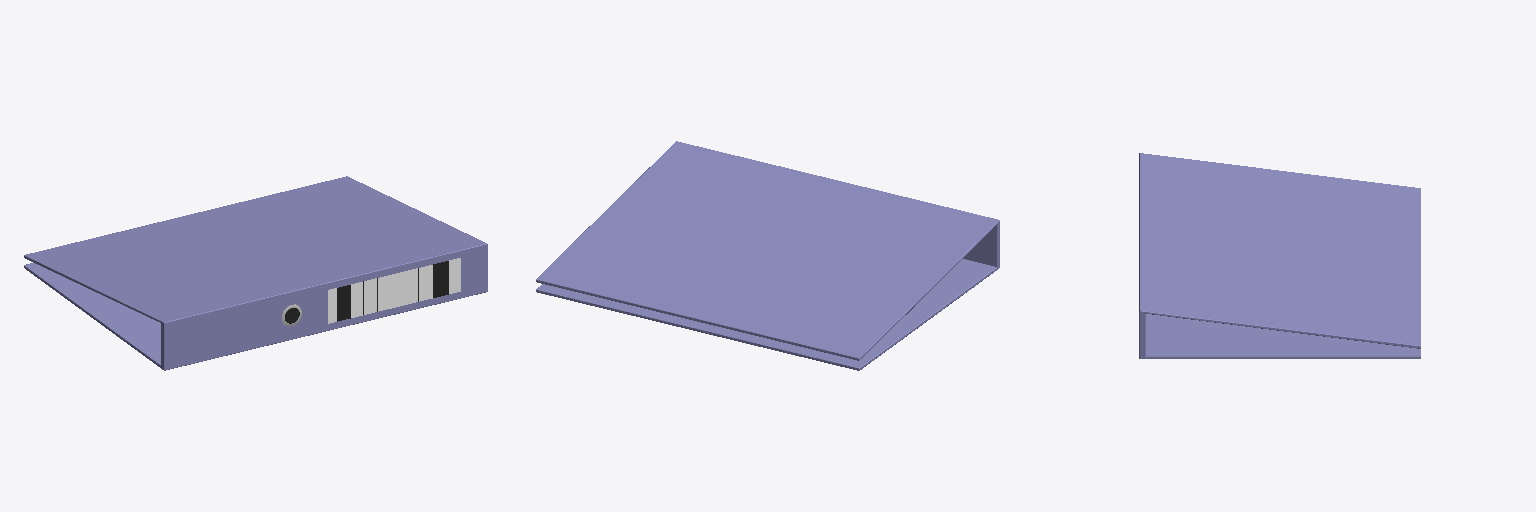
File: file-cover.obj
3 renders of one model, left to right at view 1: azimuth 30°, elevation 25°; view 2: azimuth 150°, elevation 25°; view 3: azimuth 270°, elevation 25°, orthographic.
Parts seen in each view (by area): view 1: Box01; view 2: Box01; view 3: Box01.
Boxes of the visible parts, box(x1,y1,x2,y2) form: Box01: box(24, 176, 487, 370); Box01: box(536, 141, 999, 370); Box01: box(1139, 153, 1420, 358).
Size of the model in its own units: 198 by 28.35 by 150.